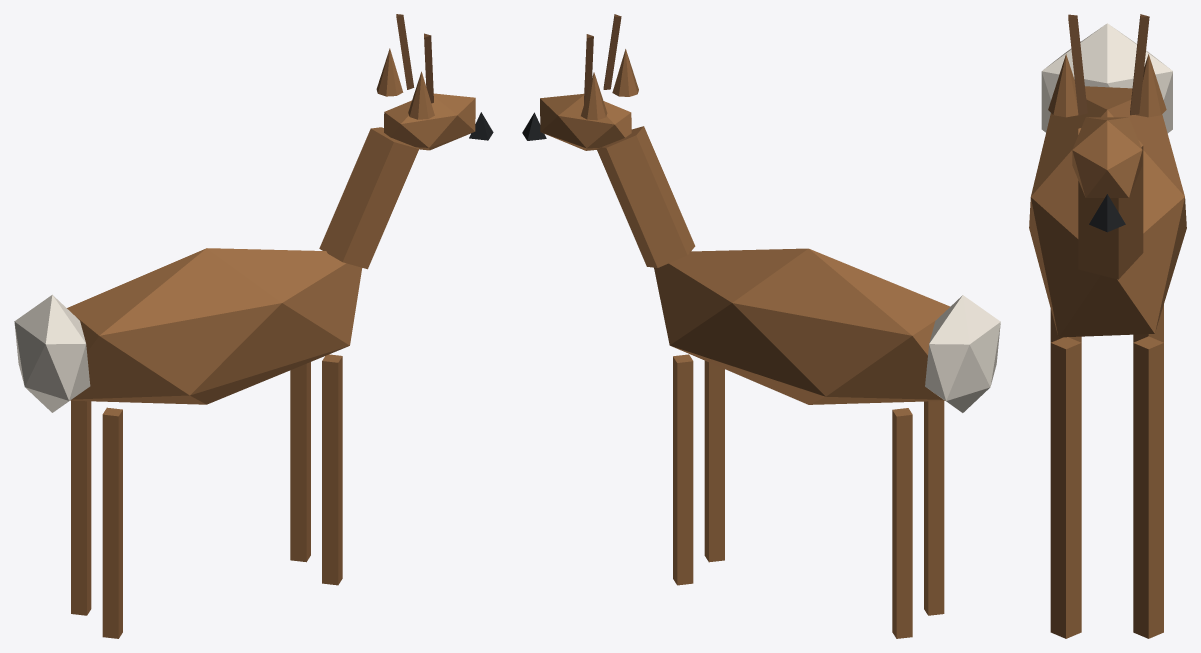
Rendered from radjur.glb.
3 views of the same model, side by side, from view 1: azimuth 30°, elevation 25°; view 2: azimuth 150°, elevation 25°; view 3: azimuth 270°, elevation 25° (orthographic). The views are drawn at different scales.
Parts seen in each view (by area): view 1: radjur; view 2: radjur; view 3: radjur.
Part boxes in pixels (box(x1,y1,x2,y2)): radjur: box(14, 14, 493, 638); radjur: box(522, 14, 1000, 638); radjur: box(1029, 14, 1186, 638).
Bounding box in the file's own units: 1.37 × 1.45 × 0.3062.
